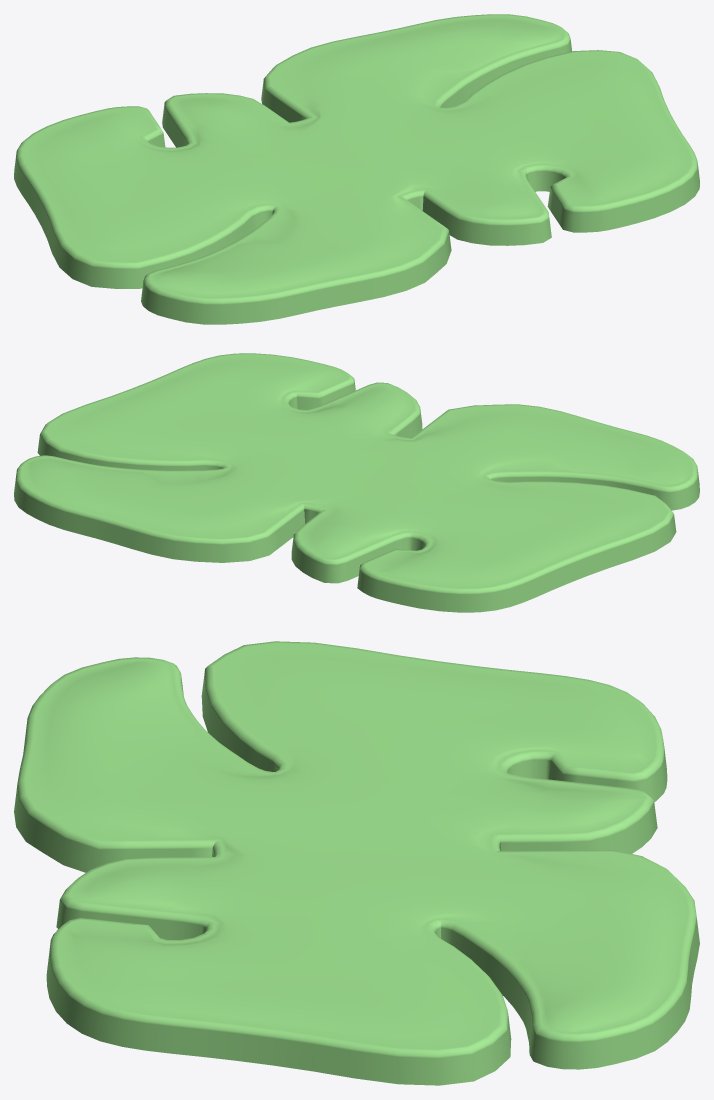
File: MDL_Map.fbx
The picture shows the model from 3 angles, top to bottom: view 1: azimuth 30°, elevation 25°; view 2: azimuth 150°, elevation 25°; view 3: azimuth 270°, elevation 25°; orthographic projection. The views are drawn at different scales.
Parts seen in each view (by area): view 1: Map_MDL; view 2: Map_MDL; view 3: Map_MDL.
Part boxes in pixels (<box>): Map_MDL: <box>14,14,699,324</box>; Map_MDL: <box>14,353,699,612</box>; Map_MDL: <box>14,641,699,1085</box>.
Bounding box in the file's own units: 1234 × 43.22 × 860.
